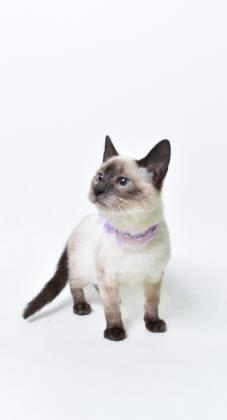siamese: (81, 126, 180, 229)
